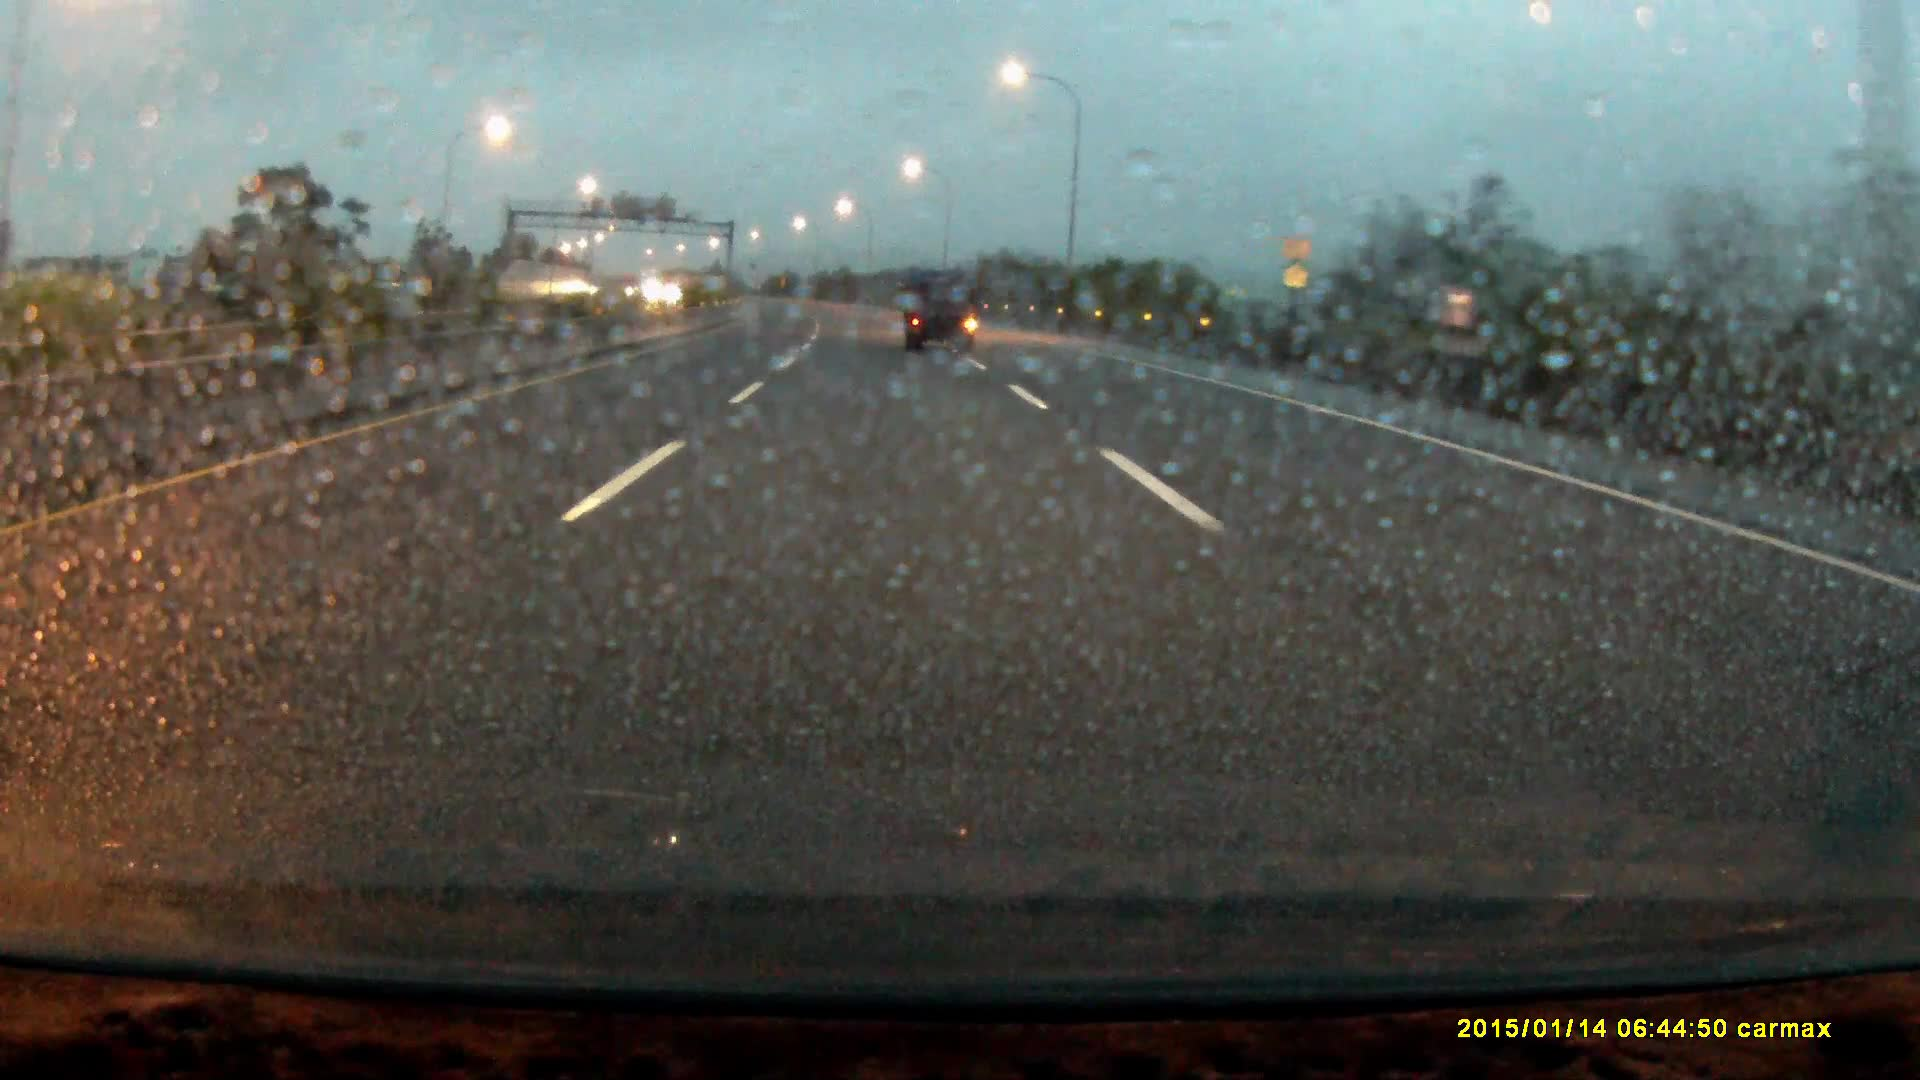vehicle: (903, 272, 980, 355)
